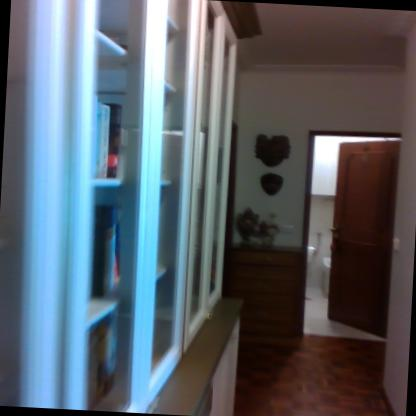semi: (283, 118, 416, 348)
